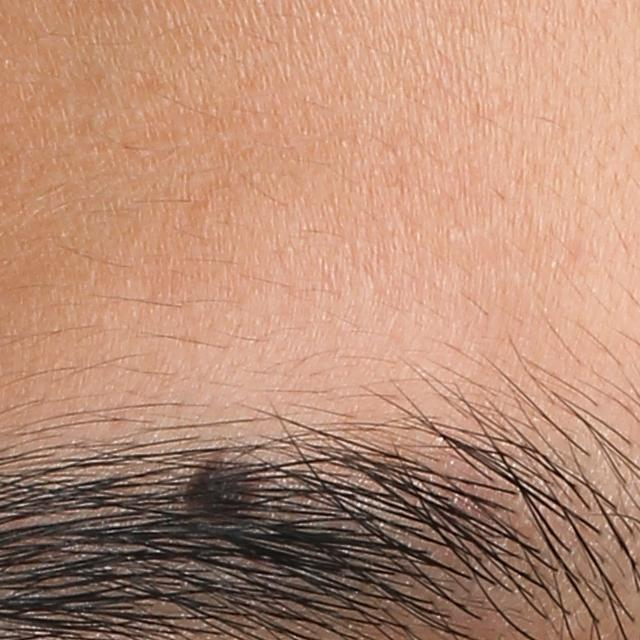nevus: (171, 450, 274, 519)
